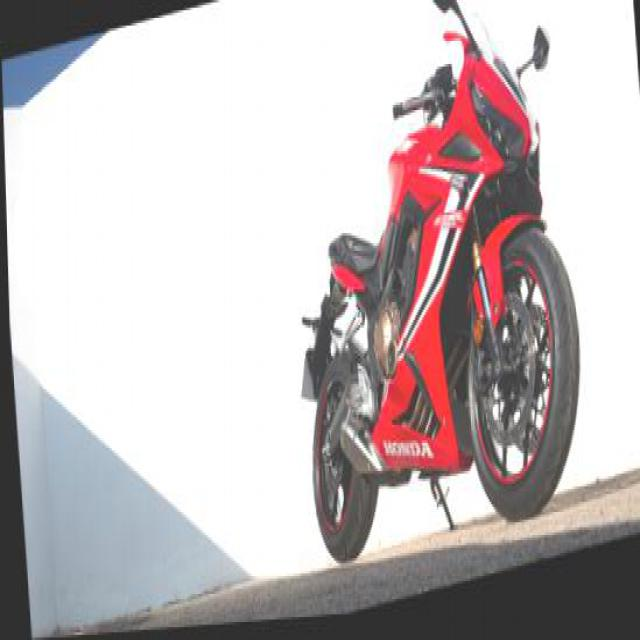CBR650R: (280, 0, 588, 589)
